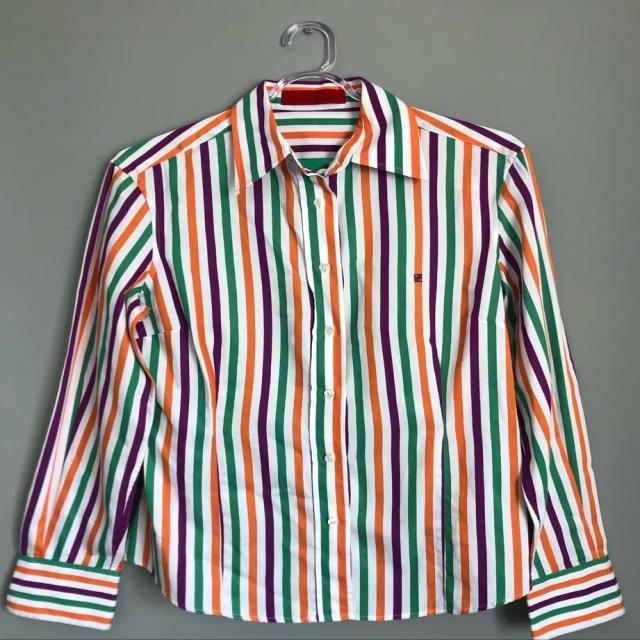long sleeve shirt: (7, 73, 628, 640)
